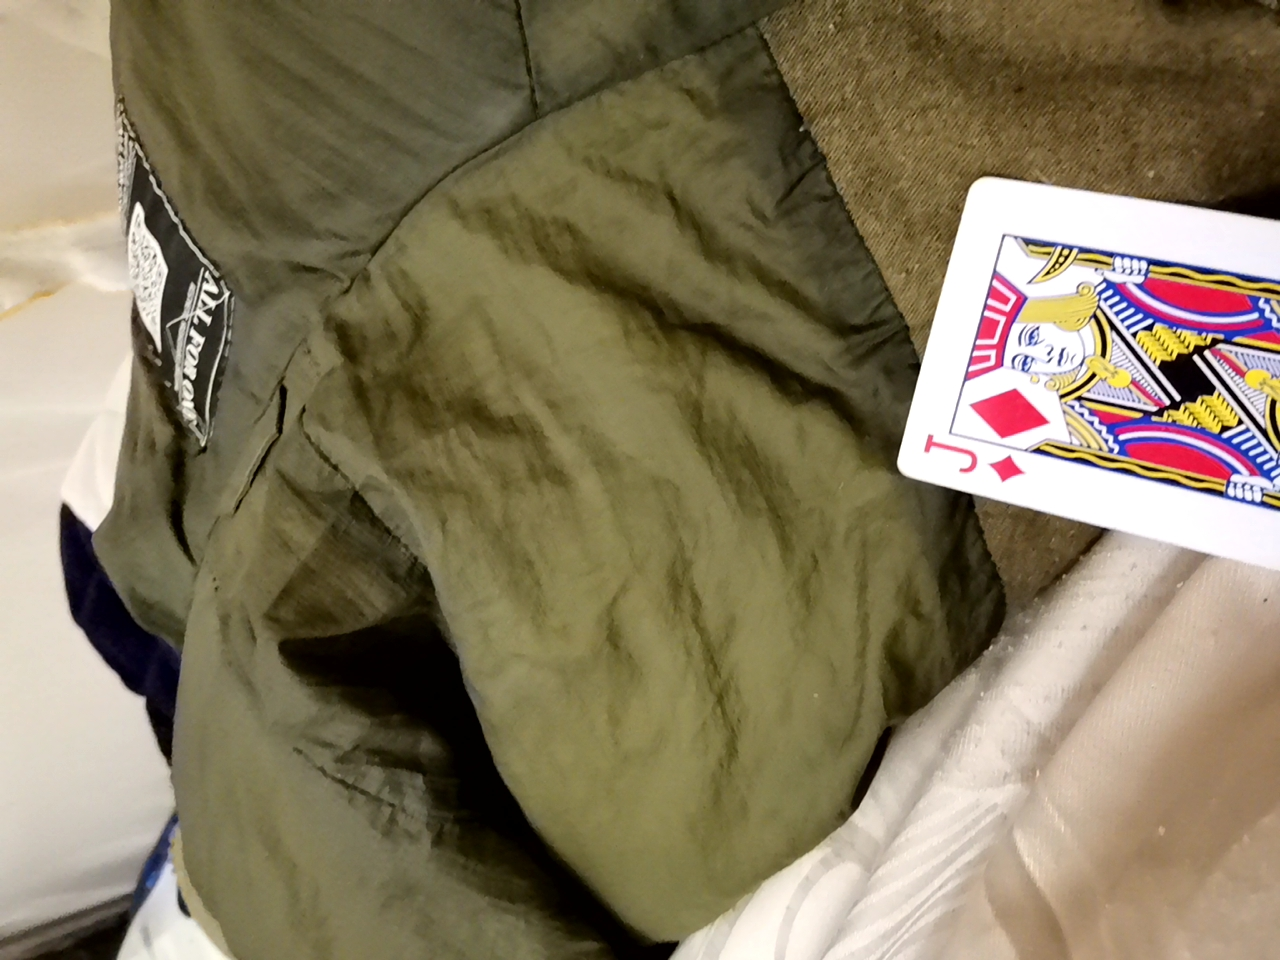fk j: (885, 190, 1280, 611)
